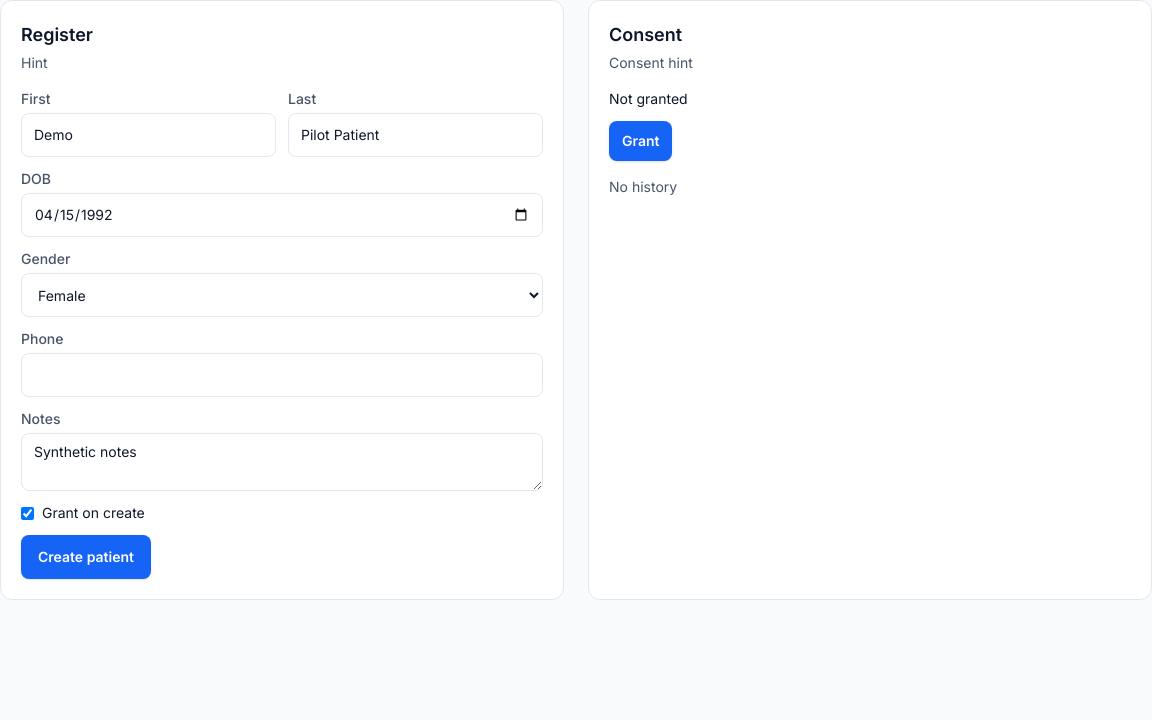
Test case: PatientOnboardingPanel › refetches after 409 on manual grant and shows active state without stale error
The image size is (1152, 720).
Expected: the text "Not granted" is shown, [609,90,688,107]
Click the button "Grant".
click(641, 141)  # box [609,121,672,161]
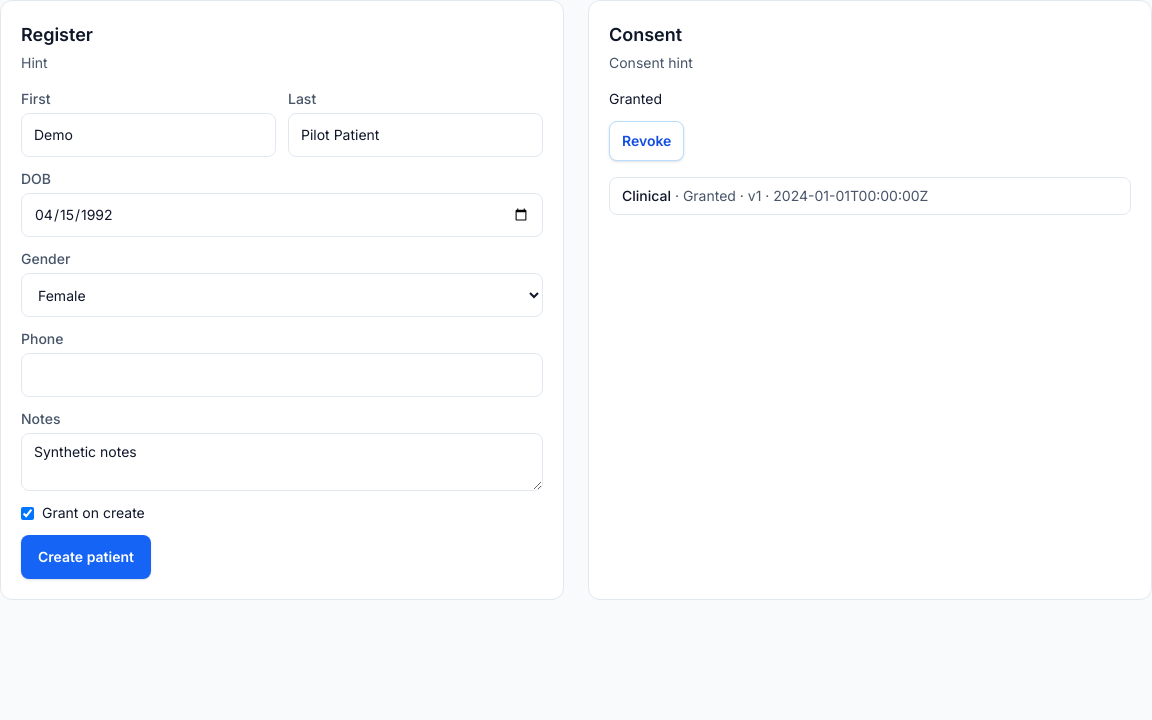
Expected: the text "Granted" is shown, [609,90,662,107]
Now the text "Not granted" is gone
